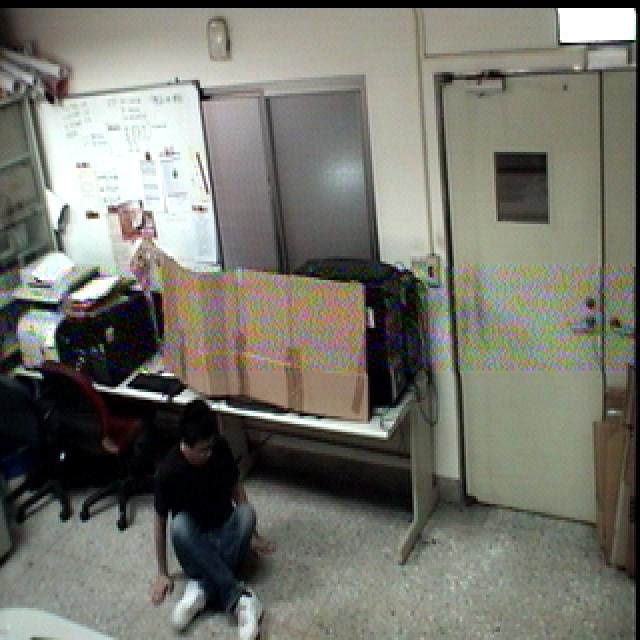sit: (137, 399, 284, 640)
